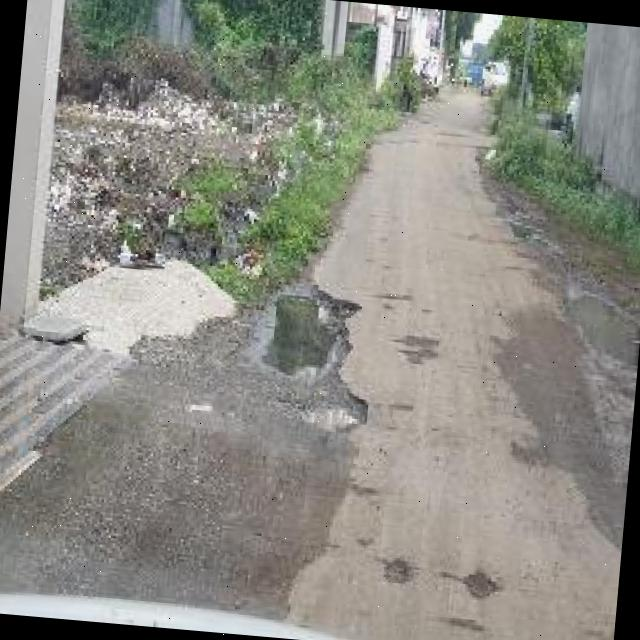stagnation: (248, 284, 346, 394)
